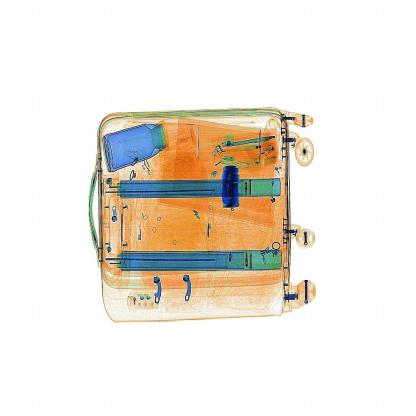scissors: (216, 154, 244, 214)
